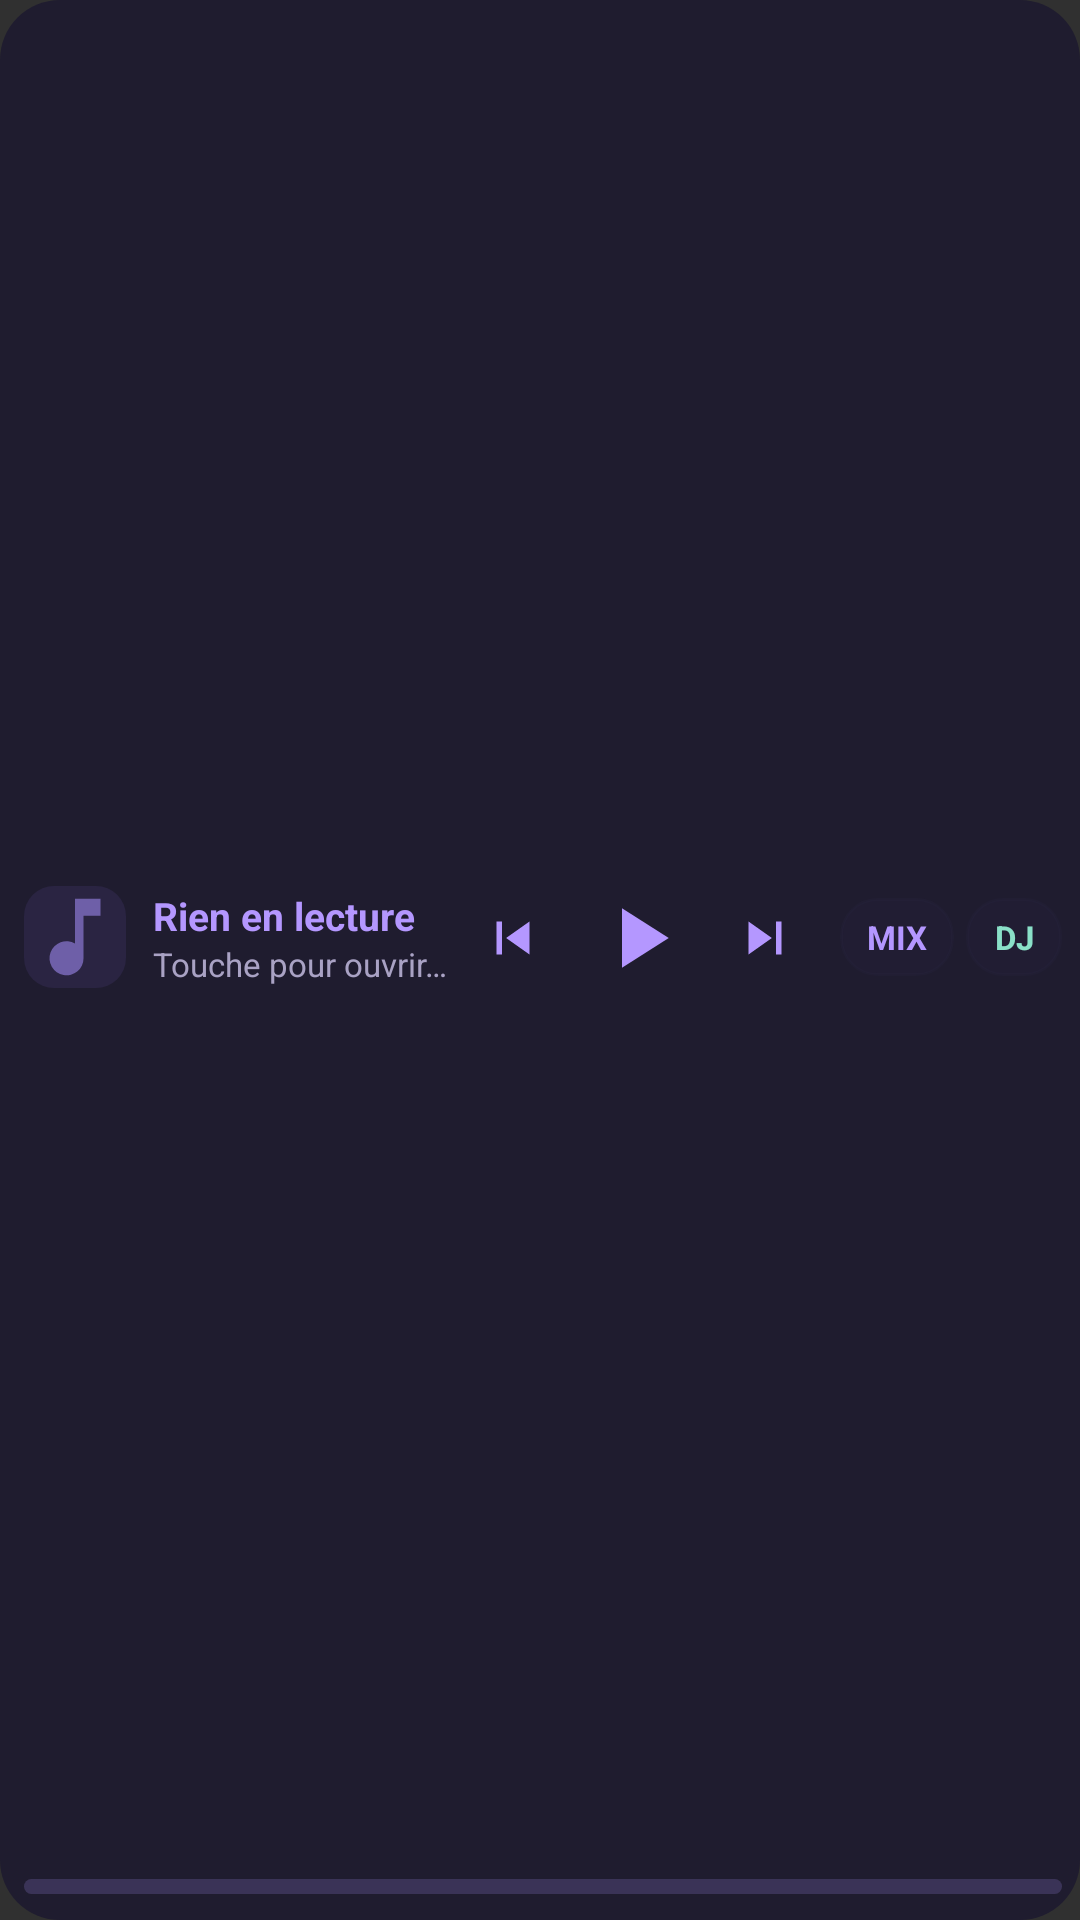

Icons on this 1080 x 1920 Android screen, each with the point to tap as point (x, y):
Jaquette: point (75, 937)
Lecture / pause: point (645, 938)
Précédent: point (513, 938)
Suivant: point (765, 938)
